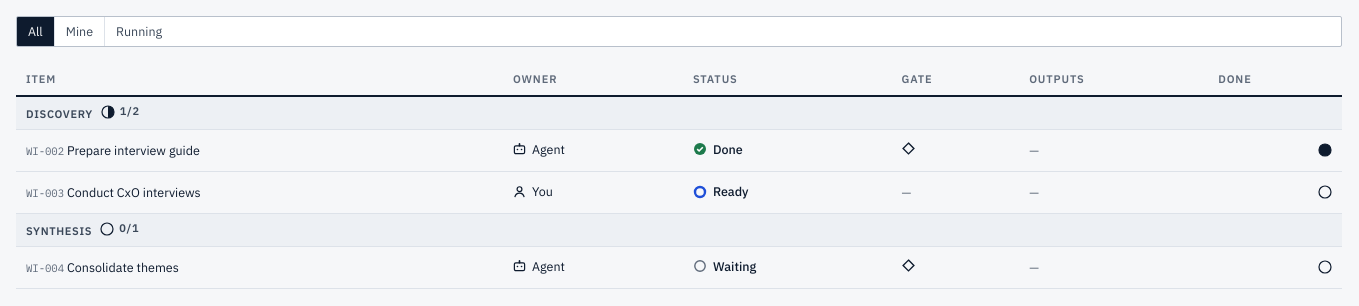
PlanTracker grouping › the Mine filter keeps only human-executed tasks
The image size is (1359, 306).
Click the button "Mine".
click(80, 31)  # box x1=55 y1=17 x2=105 y2=46
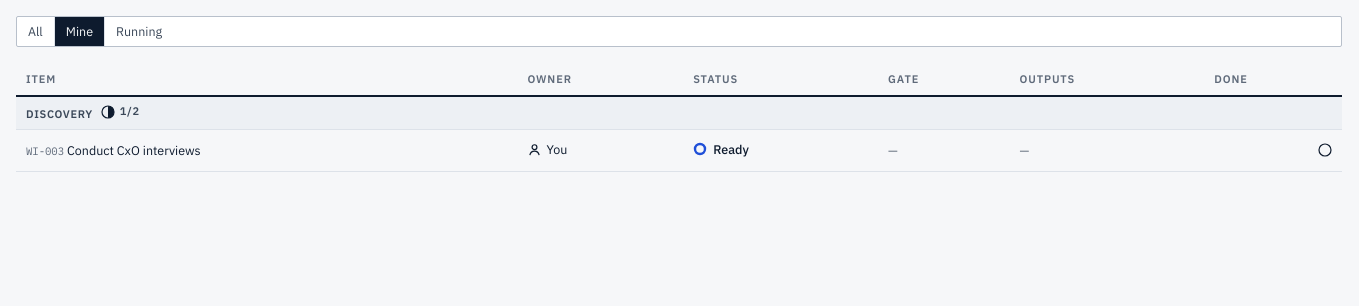
Expected: the row with test id "tracker-row-WI-003" is shown, x1=16 y1=130 x2=1342 y2=172
Expected: the row with test id "tracker-row-WI-002" is gone
